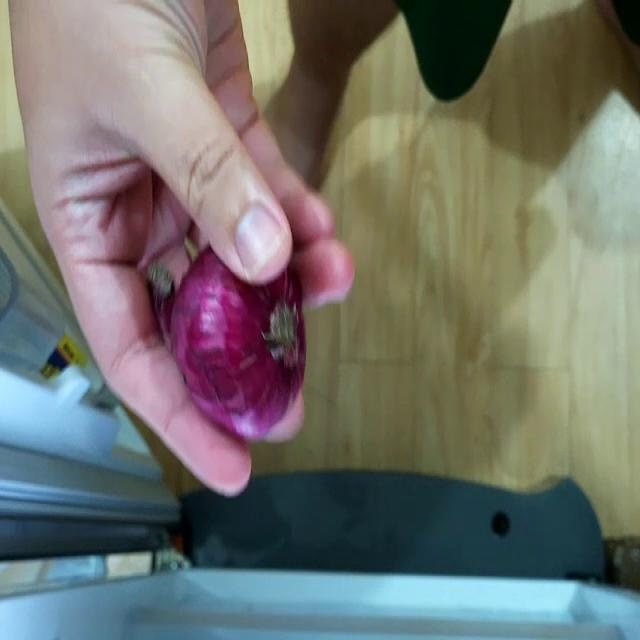onion: (146, 234, 311, 447)
